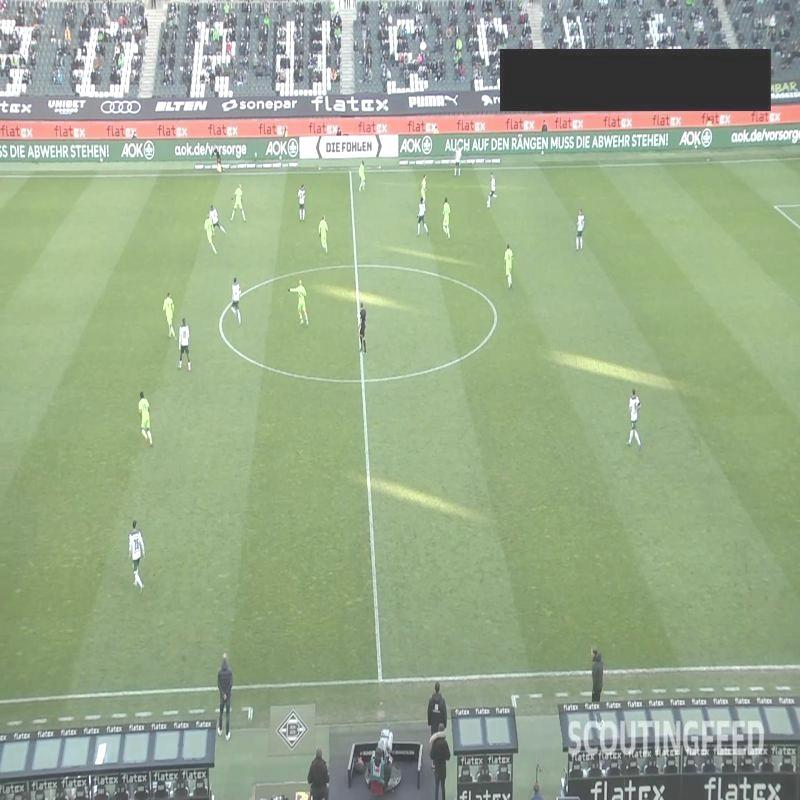13: (343, 165, 357, 179)
14: (350, 259, 364, 273)
15: (356, 374, 370, 388)
16: (372, 671, 390, 689)
9: (766, 200, 783, 212)
c: (488, 304, 504, 325), (214, 318, 228, 332)
